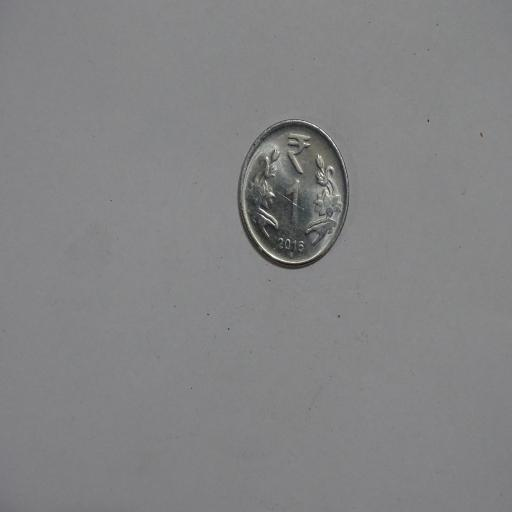rupee1: (231, 117, 348, 272)
